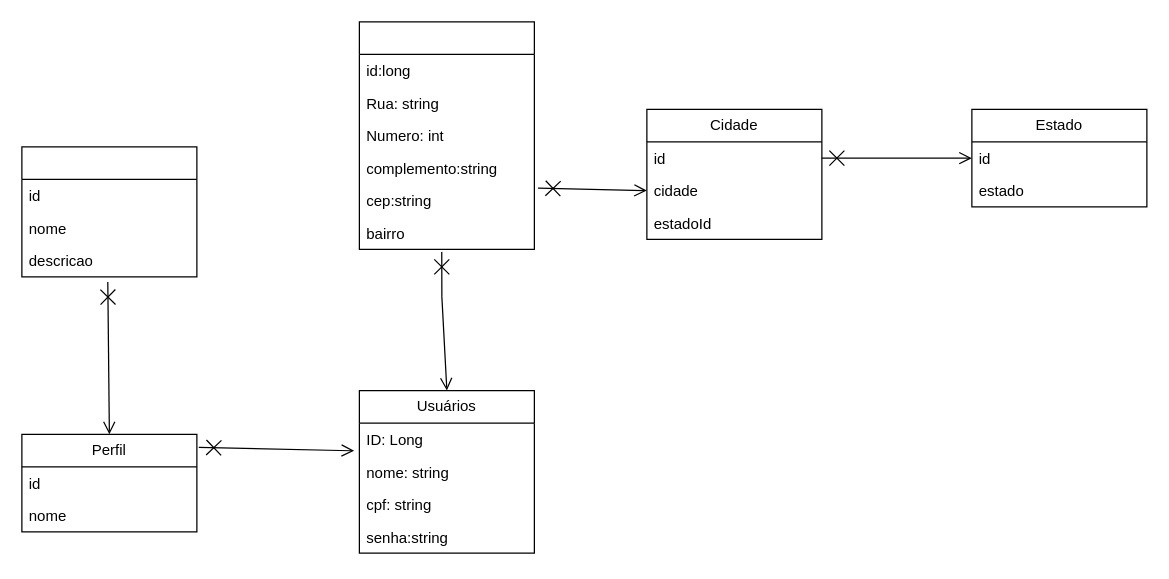
This 1169x579 diagram has some shape labels left out. Here are the shapes that lost their labels. From the top down, the box of each, then its label:
(358, 21, 534, 249): Endereco
(21, 146, 197, 277): Permissao
